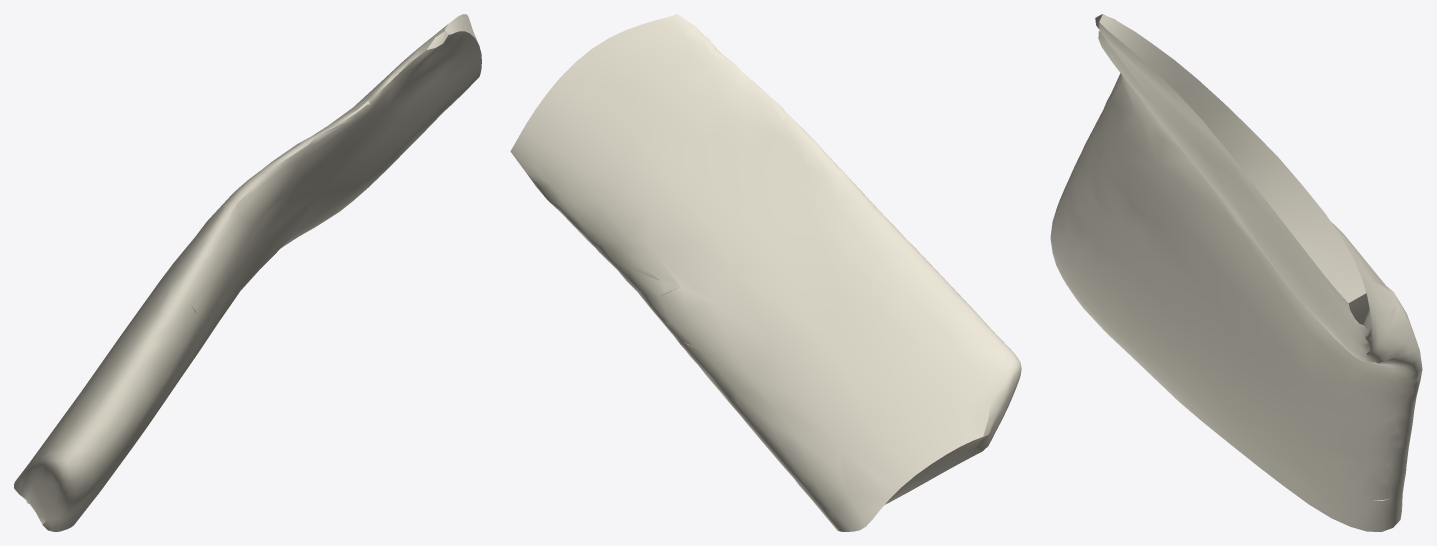
File: fma73157_mm1448m.glb
3 renders of one model, left to right at view 1: azimuth 30°, elevation 25°; view 2: azimuth 150°, elevation 25°; view 3: azimuth 270°, elevation 25°, orthographic. The views are drawn at different scales.
Parts seen in each view (by area): view 1: FMA73157_MM1448M; view 2: FMA73157_MM1448M; view 3: FMA73157_MM1448M.
Part boxes in pixels (x1,y1,x2,y2): FMA73157_MM1448M: [14, 14, 481, 531]; FMA73157_MM1448M: [510, 14, 1021, 531]; FMA73157_MM1448M: [1050, 14, 1422, 531].
Size of the model in its own units: 0.012 by 0.0106 by 0.00489.
